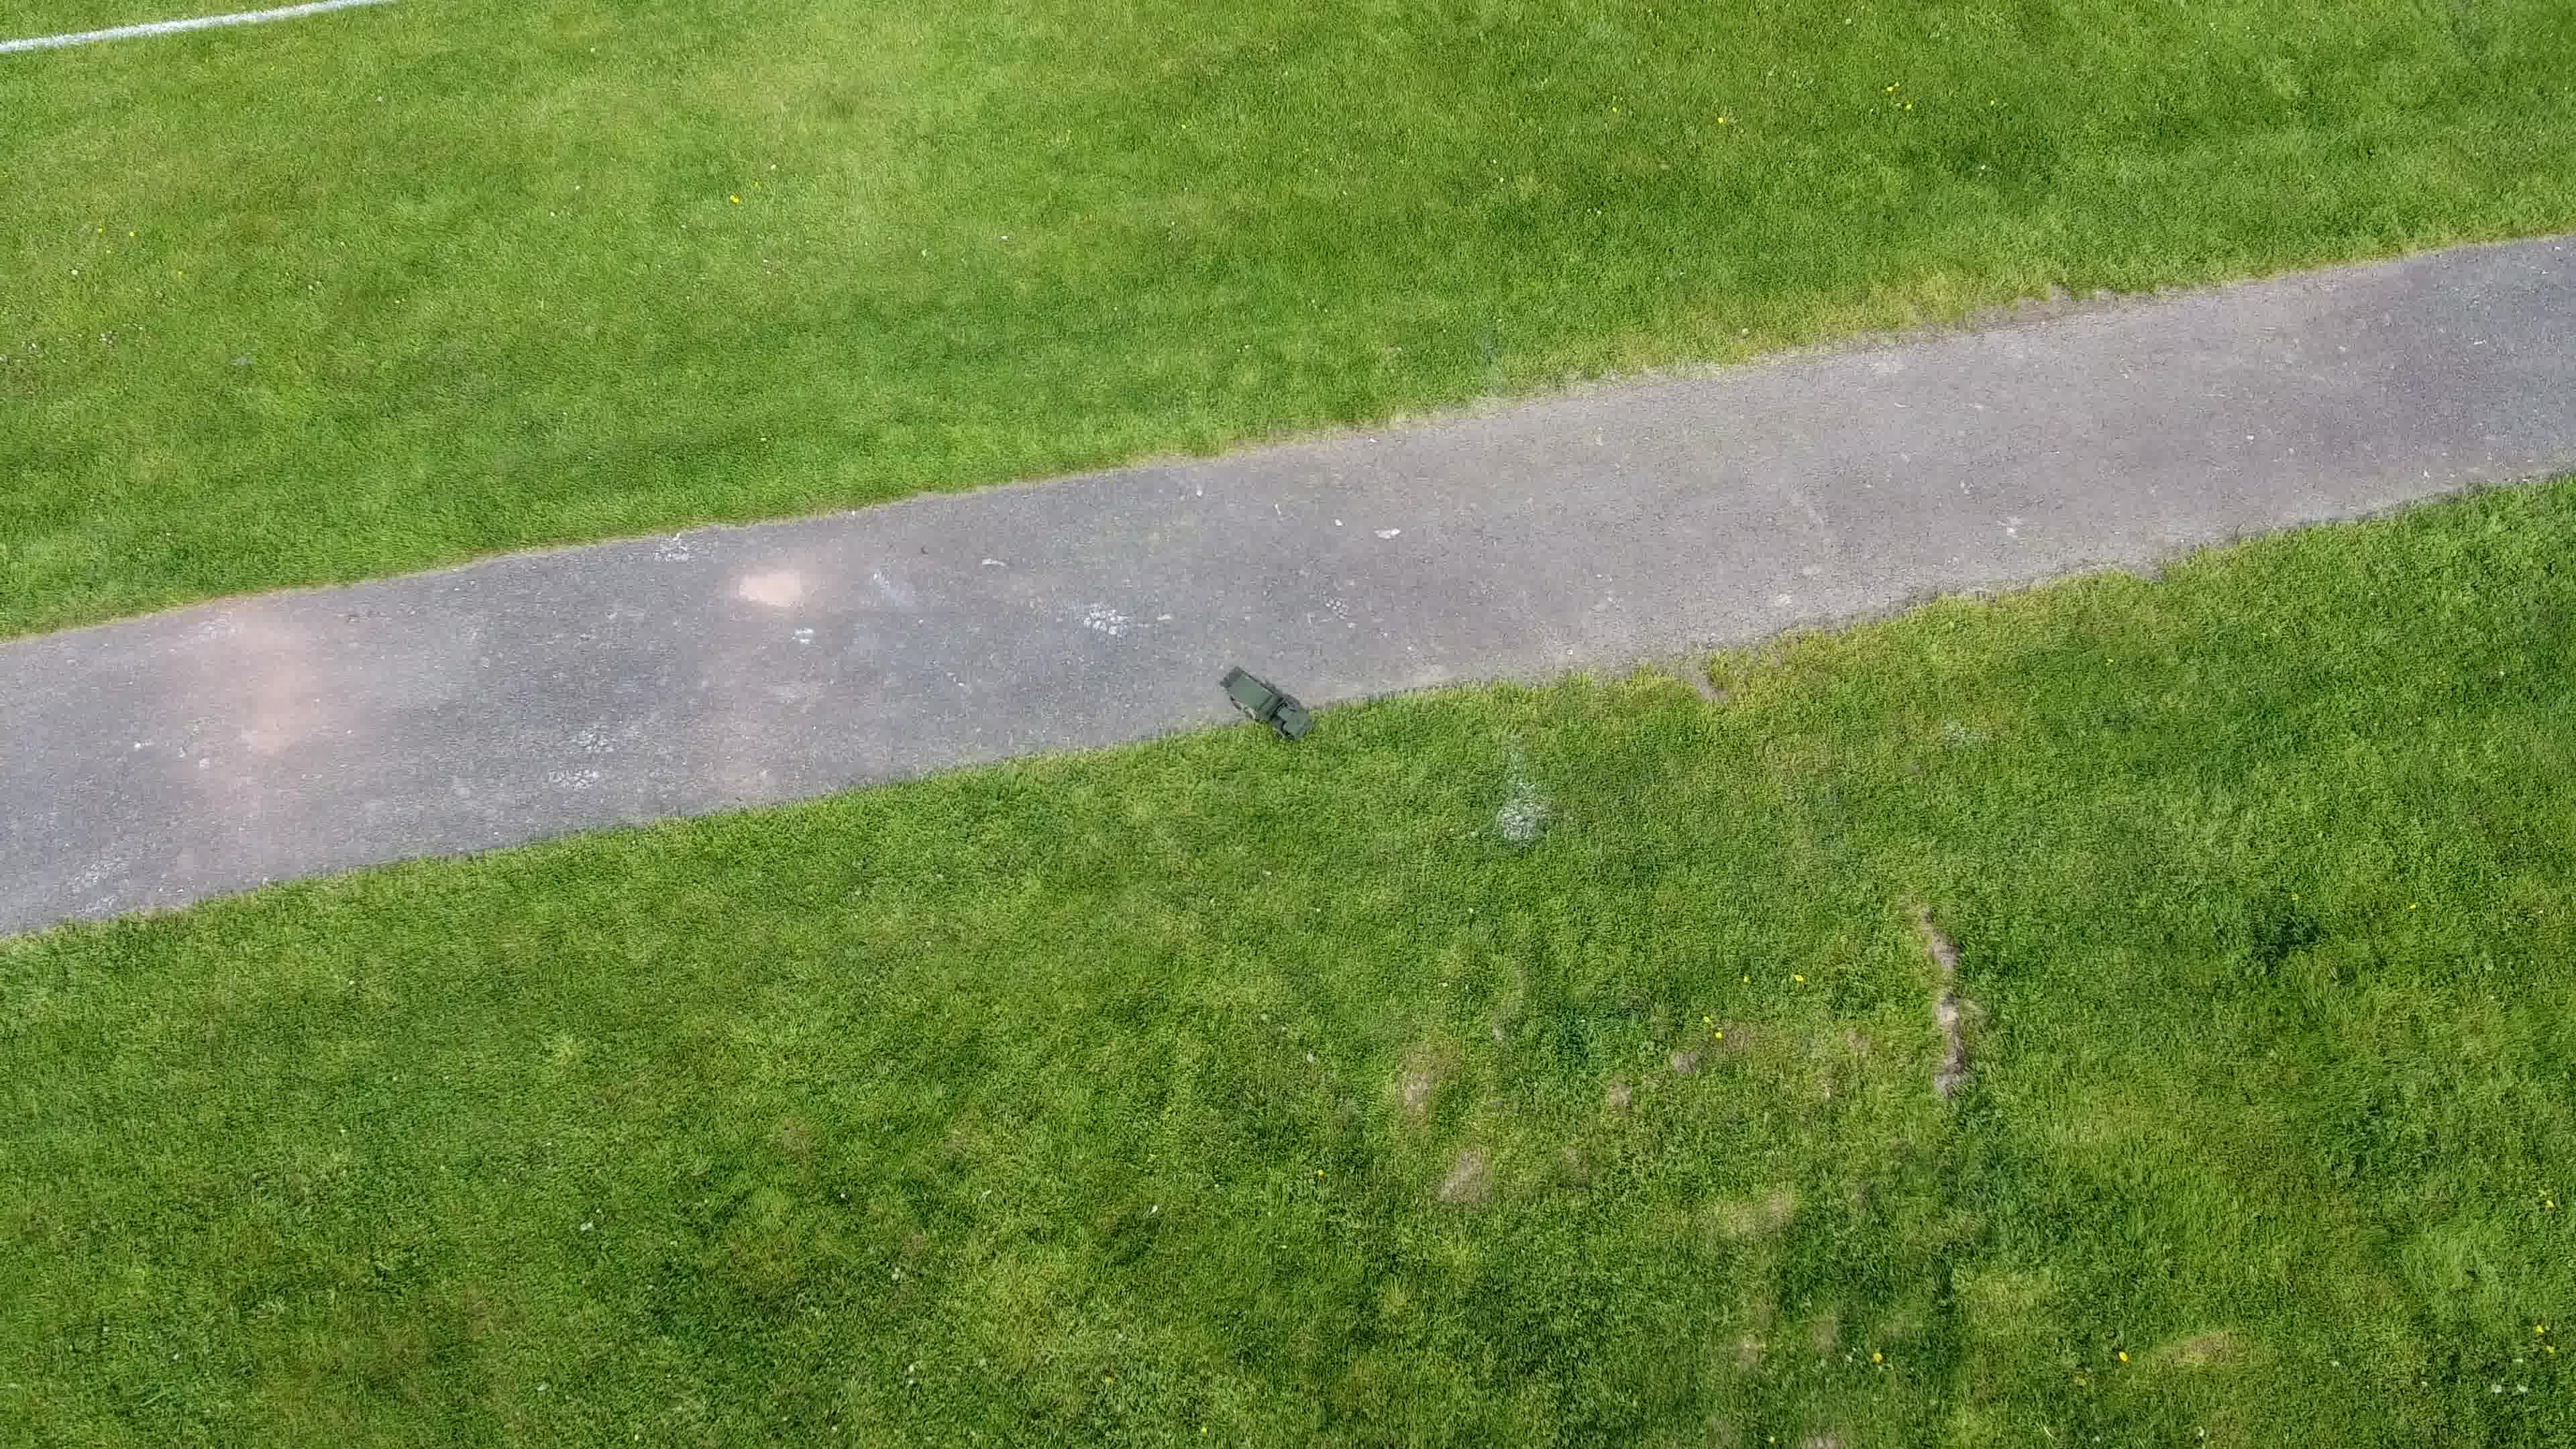transporter9: (1217, 665, 1313, 743)
